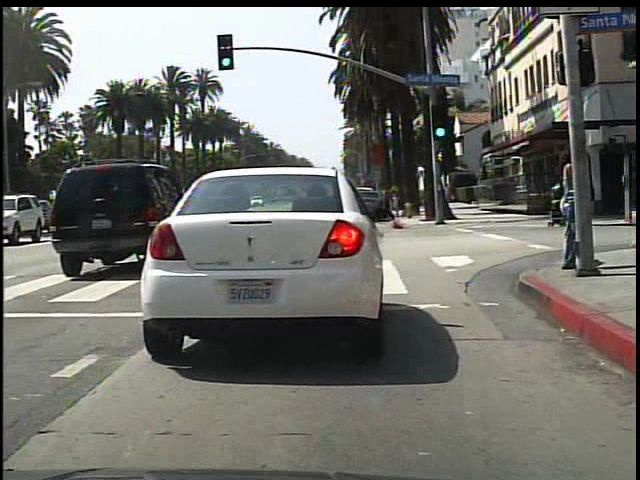person: (539, 140, 581, 274)
